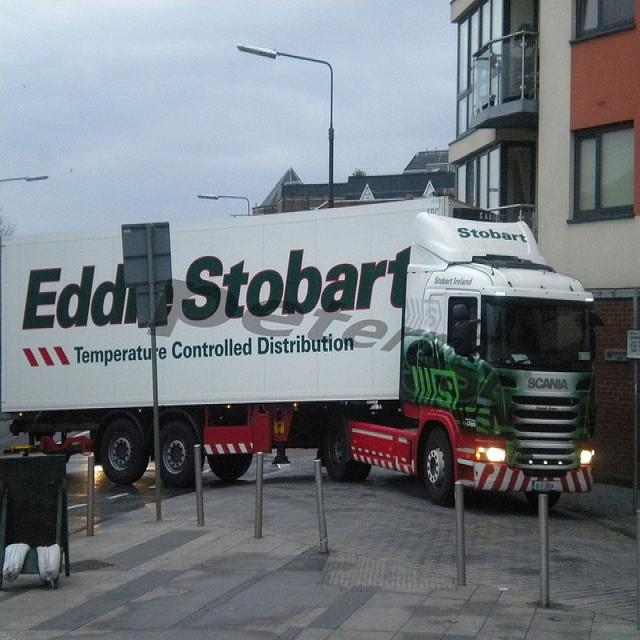Vehicle: (2, 196, 596, 500)
